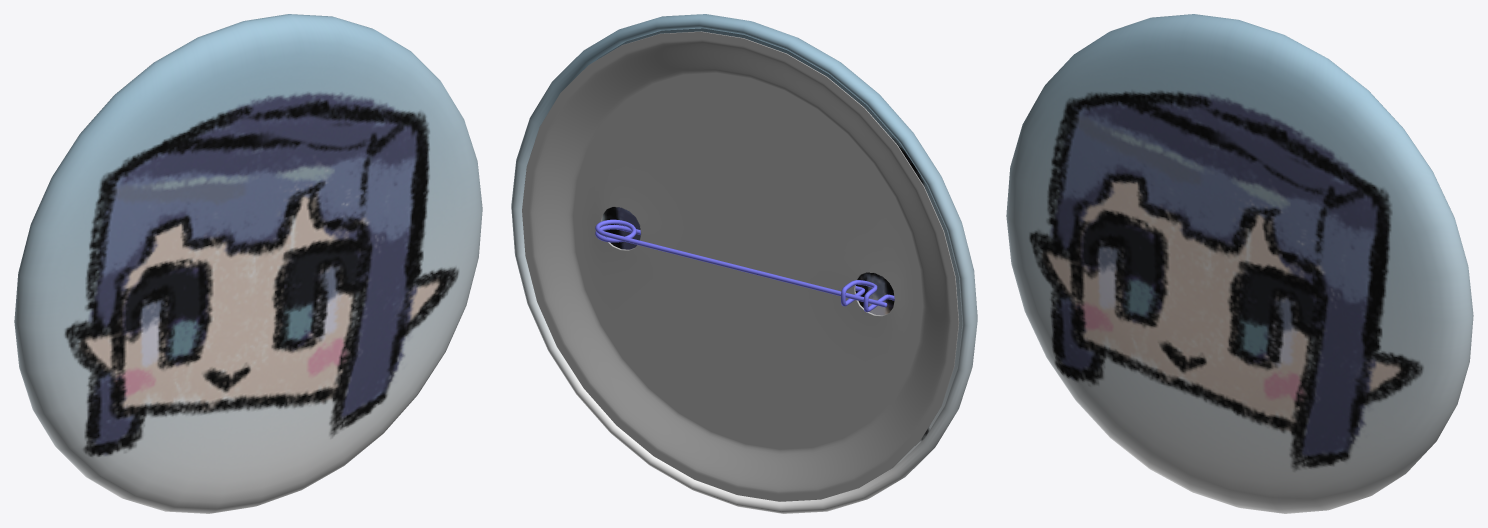
3 renders of one model, left to right at view 1: azimuth 30°, elevation 25°; view 2: azimuth 150°, elevation 25°; view 3: azimuth 330°, elevation 25°, orthographic.
Visible parts, largest first — view 1: Button_Pin; view 2: Button_Pin; view 3: Button_Pin.
Part boxes in pixels (x1,y1,x2,y2): Button_Pin: (14, 14, 482, 513); Button_Pin: (511, 14, 977, 513); Button_Pin: (1006, 14, 1473, 513).
Bounding box in the file's own units: 0.0629 × 0.0629 × 0.00761.
3 materials, 2 textured.
